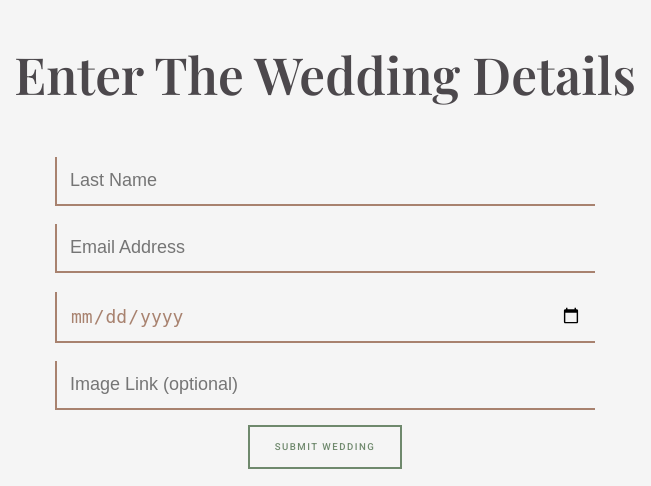
Scenario: Add Wedding Form › prevents form submission without required fields filled
This screenshot has width=651, height=486.
Step 1. Click the heading "Submit Wedding" → (325, 446), box [275, 441, 375, 452]
(page scrolled)
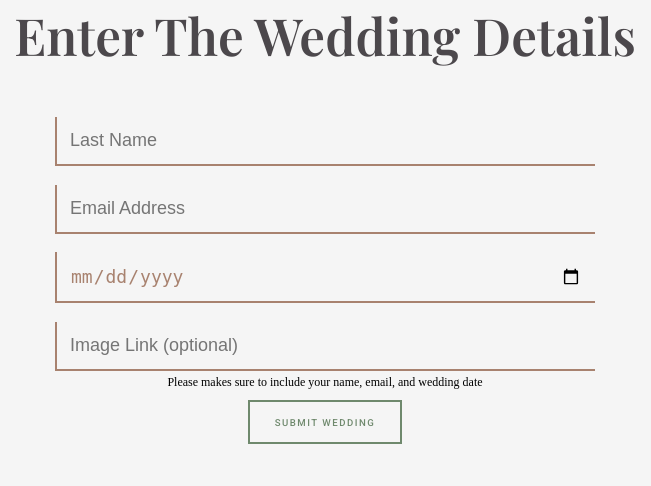
Now the text "Please makes sure to include your name, email, and wedding date" is shown, box [167, 375, 483, 389]
